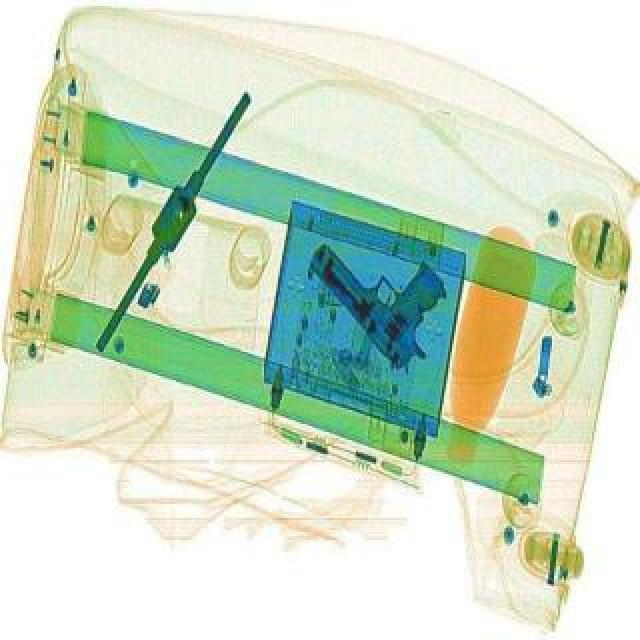gun: (298, 204, 478, 378)
